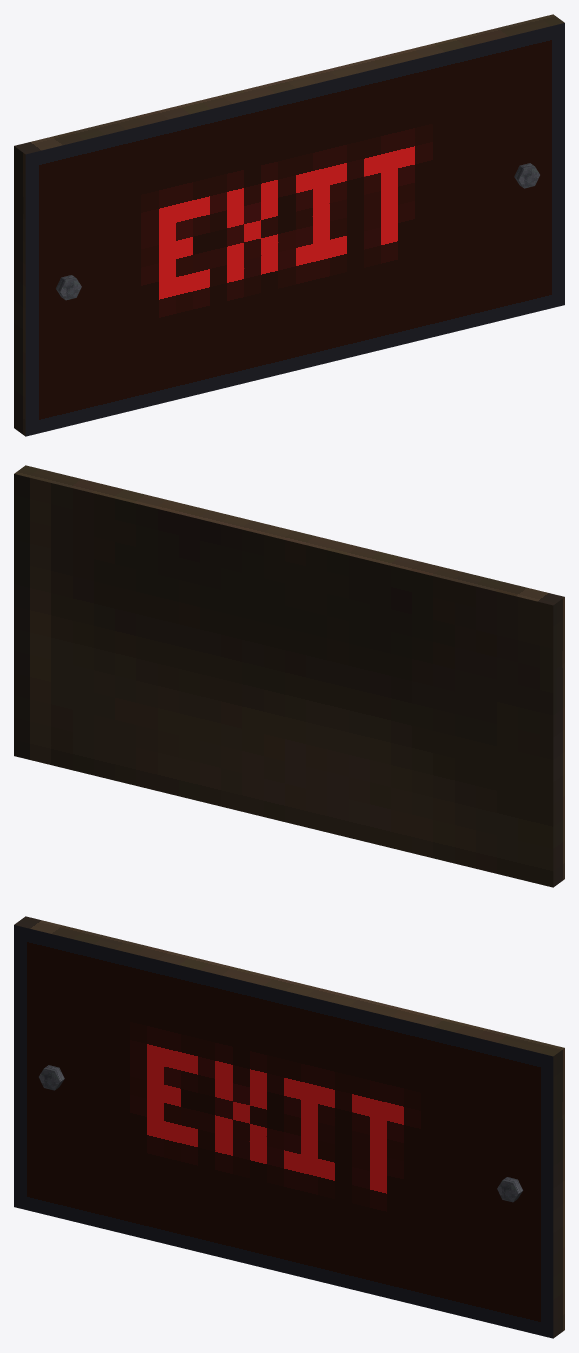
Rendered from sign_exit.glb.
3 renders of one model, top to bottom at view 1: azimuth 30°, elevation 25°; view 2: azimuth 150°, elevation 25°; view 3: azimuth 330°, elevation 25°, orthographic.
Parts seen in each view (by area): view 1: sign_exit; view 2: sign_exit; view 3: sign_exit.
Boxes of the visible parts, x1,y1,x2,y2 form: sign_exit: [14, 14, 564, 436]; sign_exit: [14, 465, 564, 887]; sign_exit: [14, 916, 564, 1338].
Bounding box in the file's own units: 0.4 × 0.2 × 0.0215.
1 material, 1 textured.
